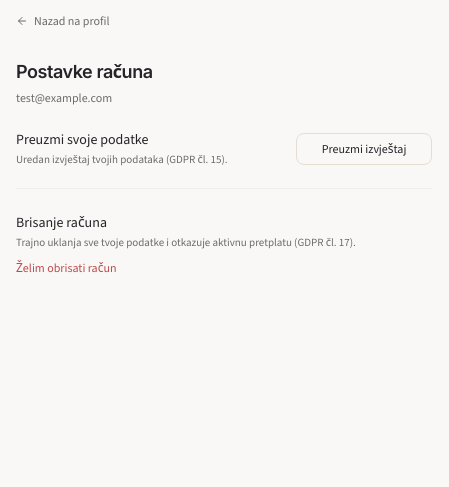
Scenario: MojiPodaci — delete confirmation gating › shows the confirm form after clicking 'Želim obrisati račun'
Click the button "Želim obrisati račun". click: (66, 268)
box: [16,260,116,276]
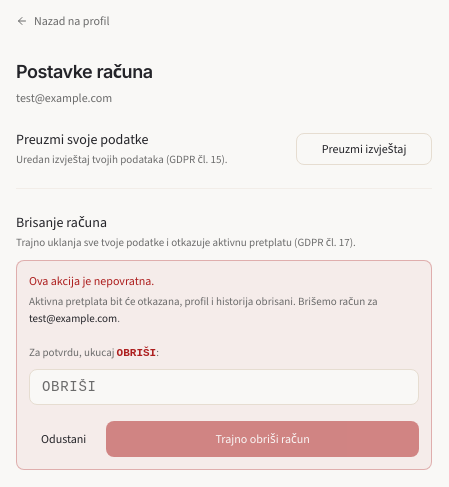
Expected: the field labelled "Za potvrdu, ukucaj OBRIŠI:" is shown, [29,369,419,405]
